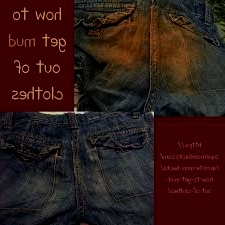earth: (99, 20, 147, 62), (153, 18, 191, 64)
